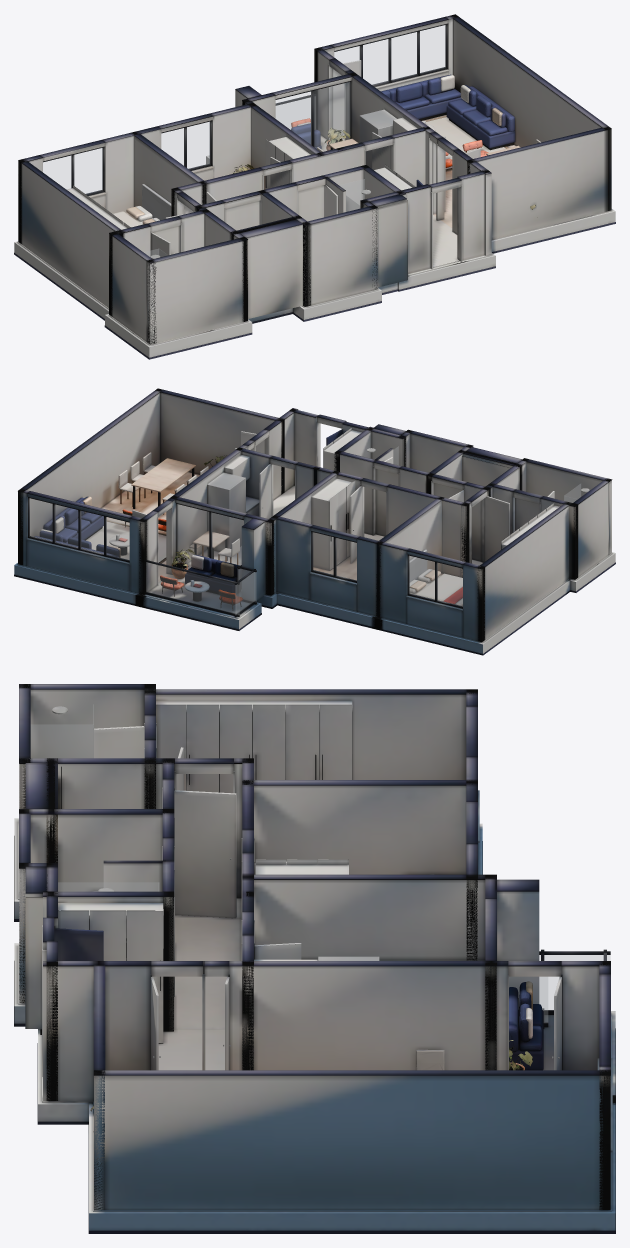
The picture shows the model from 3 angles, top to bottom: view 1: azimuth 30°, elevation 25°; view 2: azimuth 150°, elevation 25°; view 3: azimuth 270°, elevation 25°; orthographic projection. The views are drawn at different scales.
Parts seen in each view (by area): view 1: plan, glass3_m, glass2_m, glass0_m, glass1_m, railg0_m, sg.004_m; view 2: plan, glass3_m, glass2_m, railg0_m, glass0_m, glass1_m, railg4_m, railg1_m; view 3: plan, sg_m, sg.002_m, railg4_m.
Part boxes in pixels (x1=…): plan: x1=14, y1=14, x2=615, y2=359; glass3_m: x1=334, y1=25, x2=445, y2=84; glass2_m: x1=276, y1=82, x2=350, y2=150; glass0_m: x1=43, y1=148, x2=102, y2=194; glass1_m: x1=161, y1=122, x2=210, y2=168; railg0_m: x1=276, y1=96, x2=315, y2=129; sg.004_m: x1=339, y1=179, x2=364, y2=211; plan: x1=14, y1=388, x2=615, y2=655; glass3_m: x1=29, y1=498, x2=129, y2=560; glass2_m: x1=177, y1=504, x2=243, y2=568; railg0_m: x1=146, y1=562, x2=239, y2=614; glass0_m: x1=409, y1=556, x2=462, y2=606; glass1_m: x1=313, y1=532, x2=356, y2=580; railg4_m: x1=235, y1=572, x2=254, y2=614; railg1_m: x1=237, y1=569, x2=256, y2=601; plan: x1=14, y1=684, x2=615, y2=1233; sg_m: x1=31, y1=725, x2=93, y2=757; sg.002_m: x1=58, y1=882, x2=158, y2=891; railg4_m: x1=539, y1=955, x2=610, y2=1010.
Bounding box in the file's own units: 14.17 × 2.62 × 9.12.
2 materials, 1 textured.
